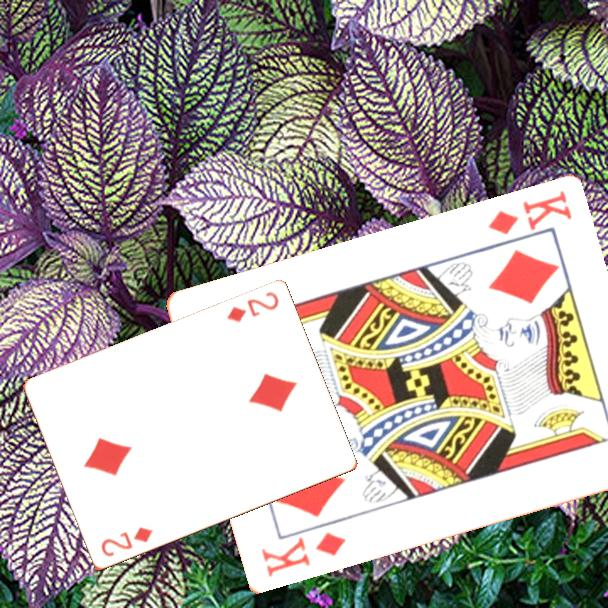d02: (223, 288, 282, 326), (97, 524, 155, 560)
d13: (257, 529, 348, 581), (483, 187, 575, 238)
